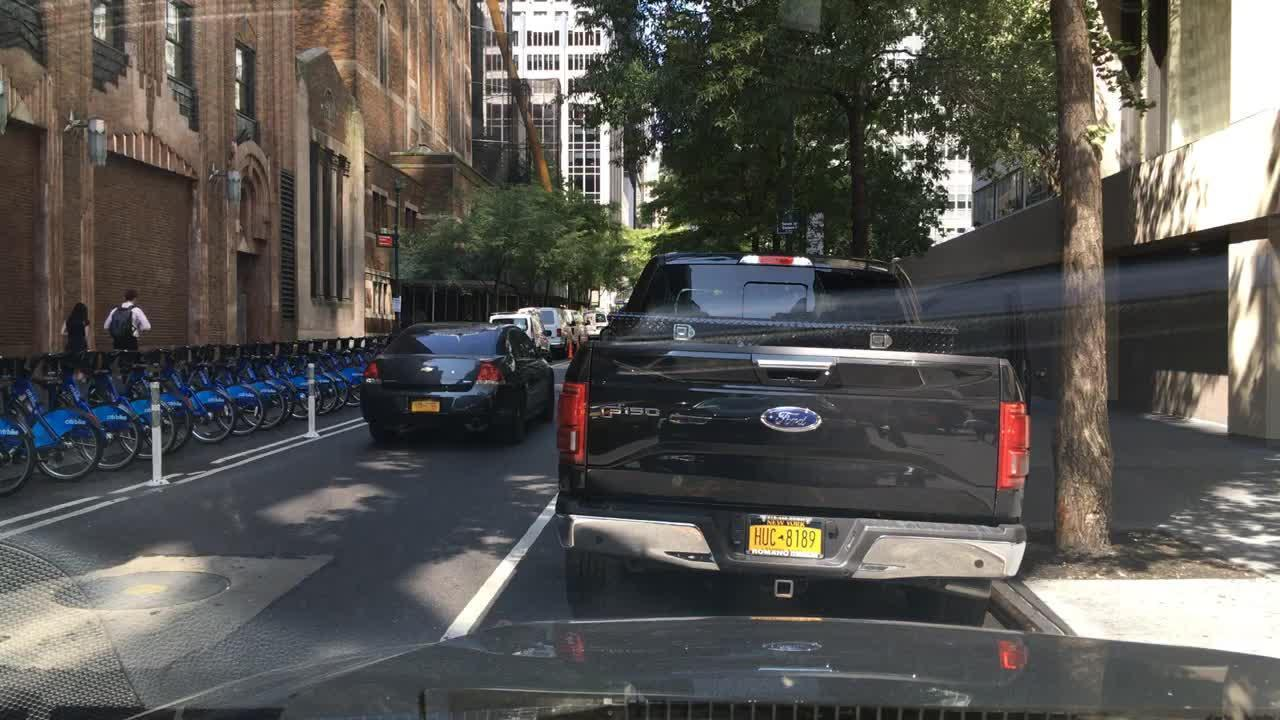chevrolet: (418, 364, 439, 376)
ford: (759, 401, 824, 436)
